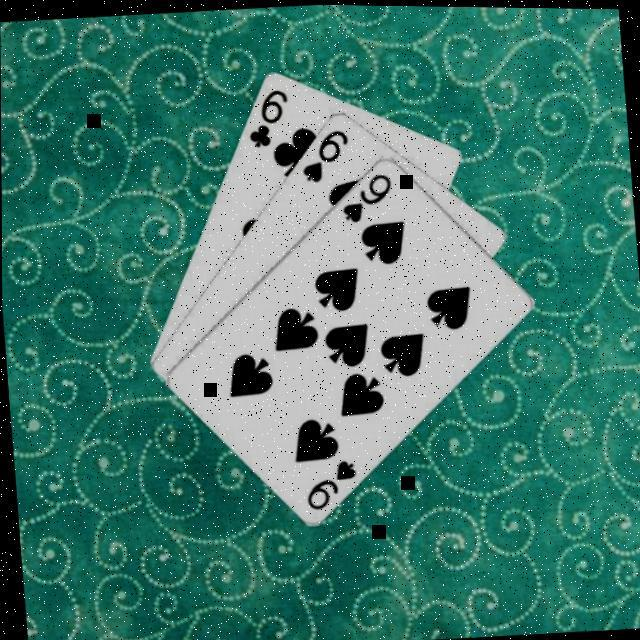6C: (242, 81, 294, 149)
6S: (297, 122, 355, 184)
9S: (300, 452, 361, 512), (336, 167, 397, 224)
